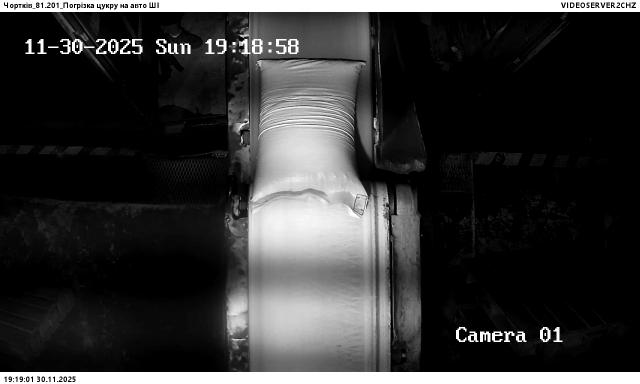bag: (250, 59, 369, 218)
